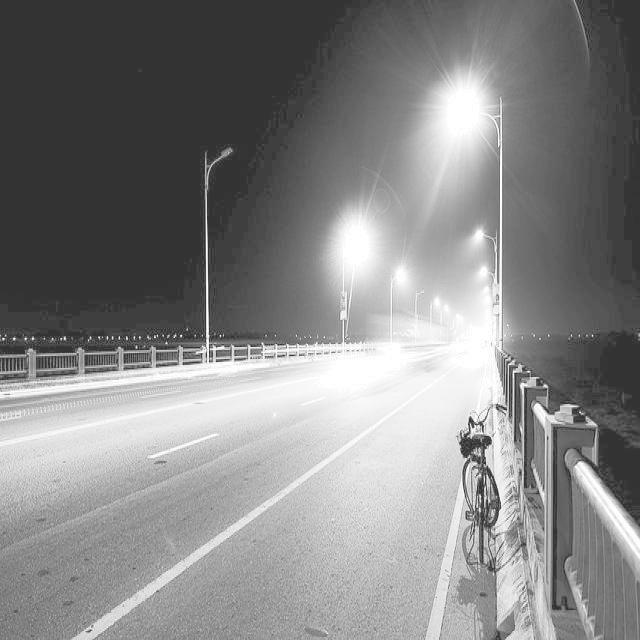Bicycle: (451, 400, 510, 569)
